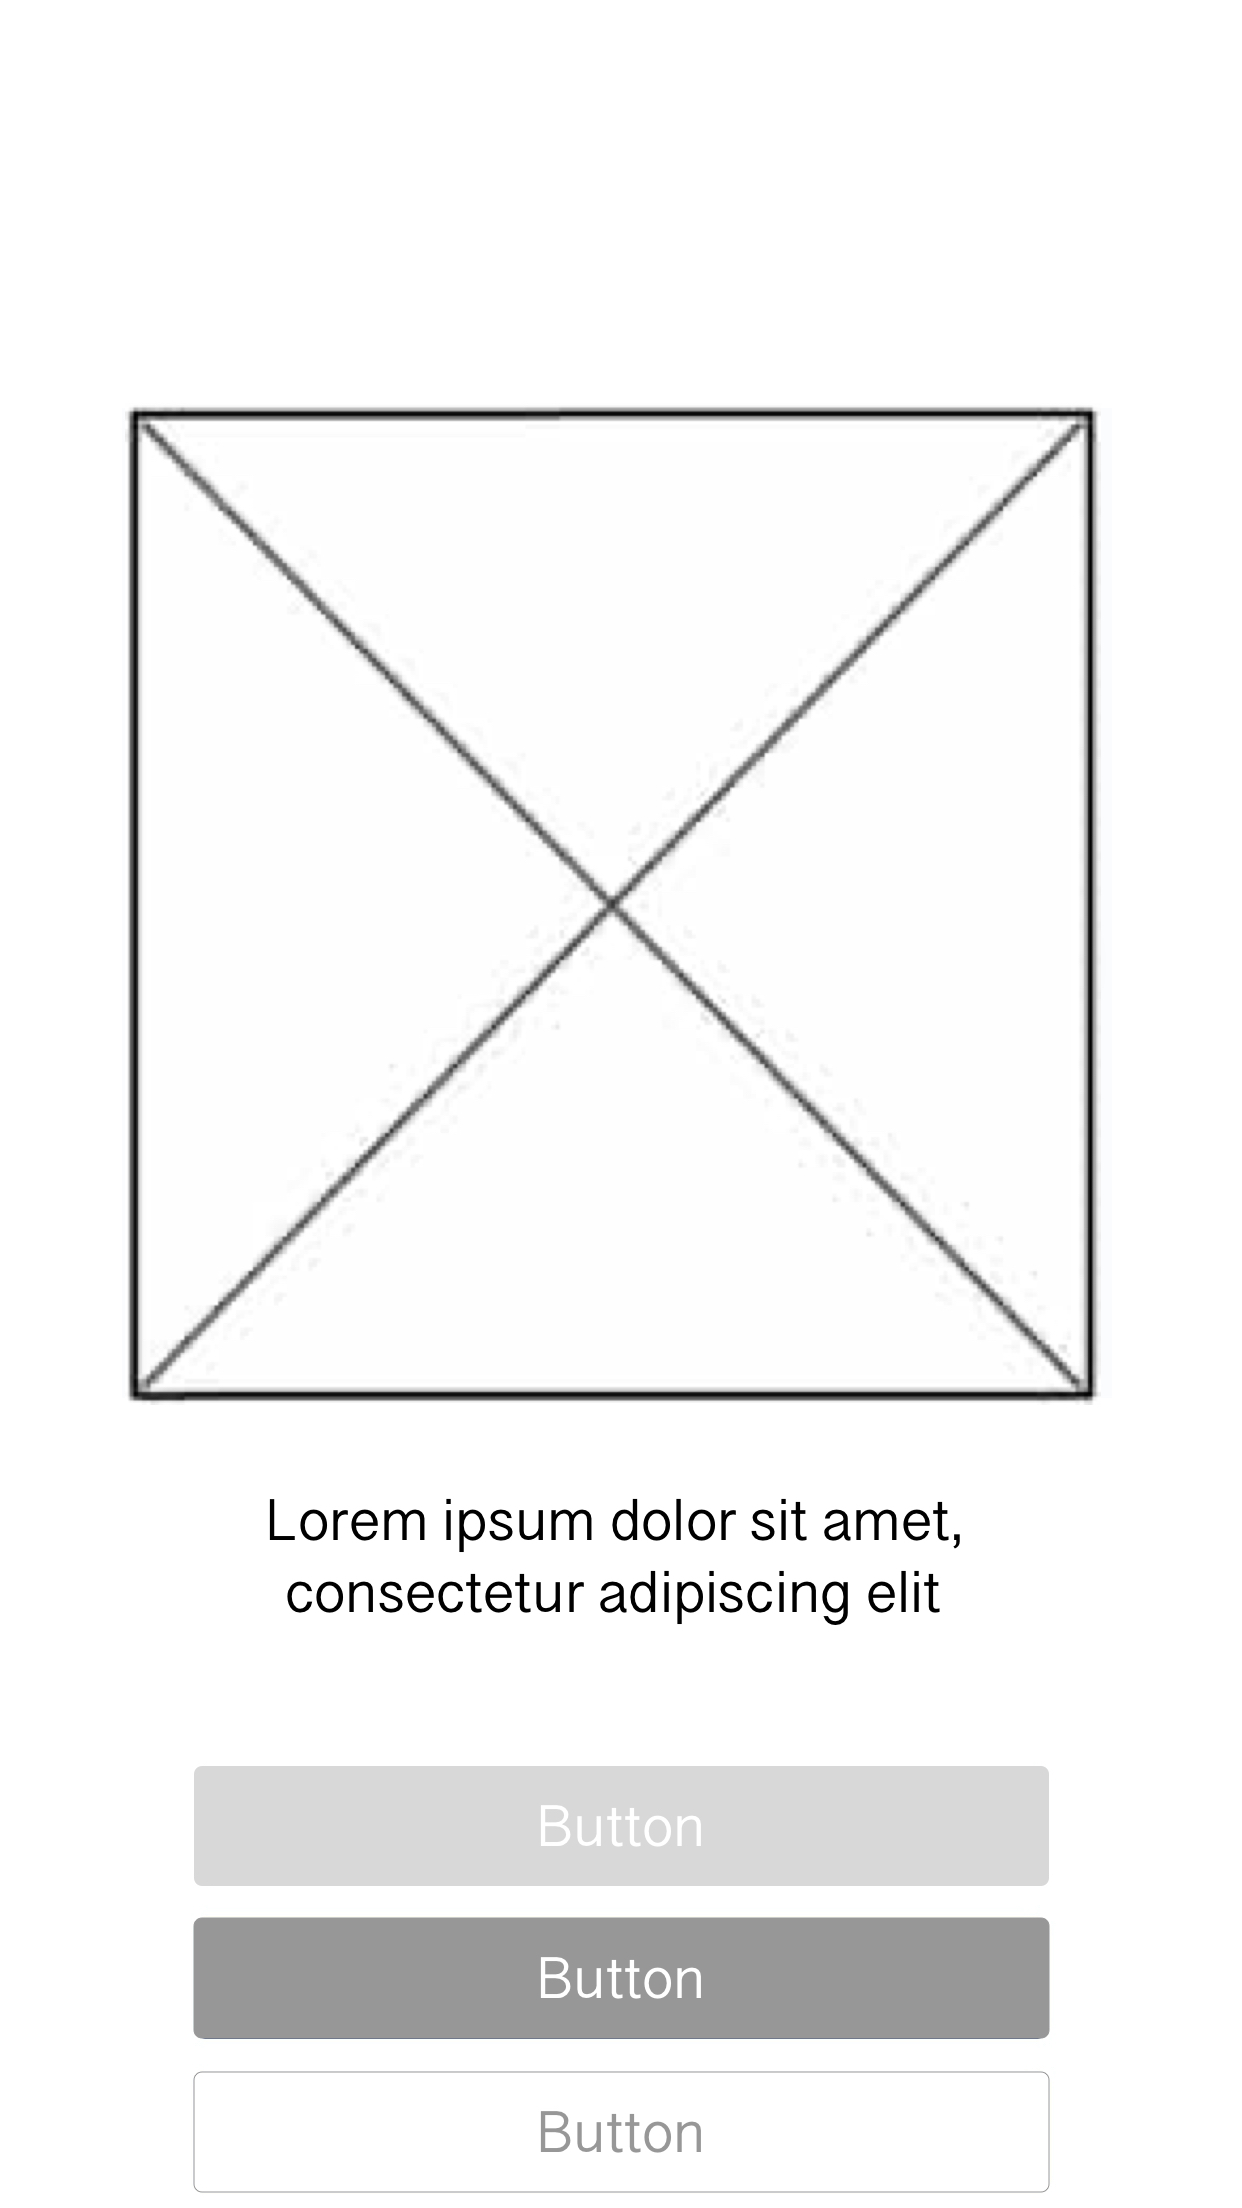Image: (124, 405, 1099, 1404)
Text: (270, 1497, 961, 1627)
TextButton: (193, 2070, 1051, 2194), (193, 1915, 1051, 2040), (193, 1765, 1049, 1887)
